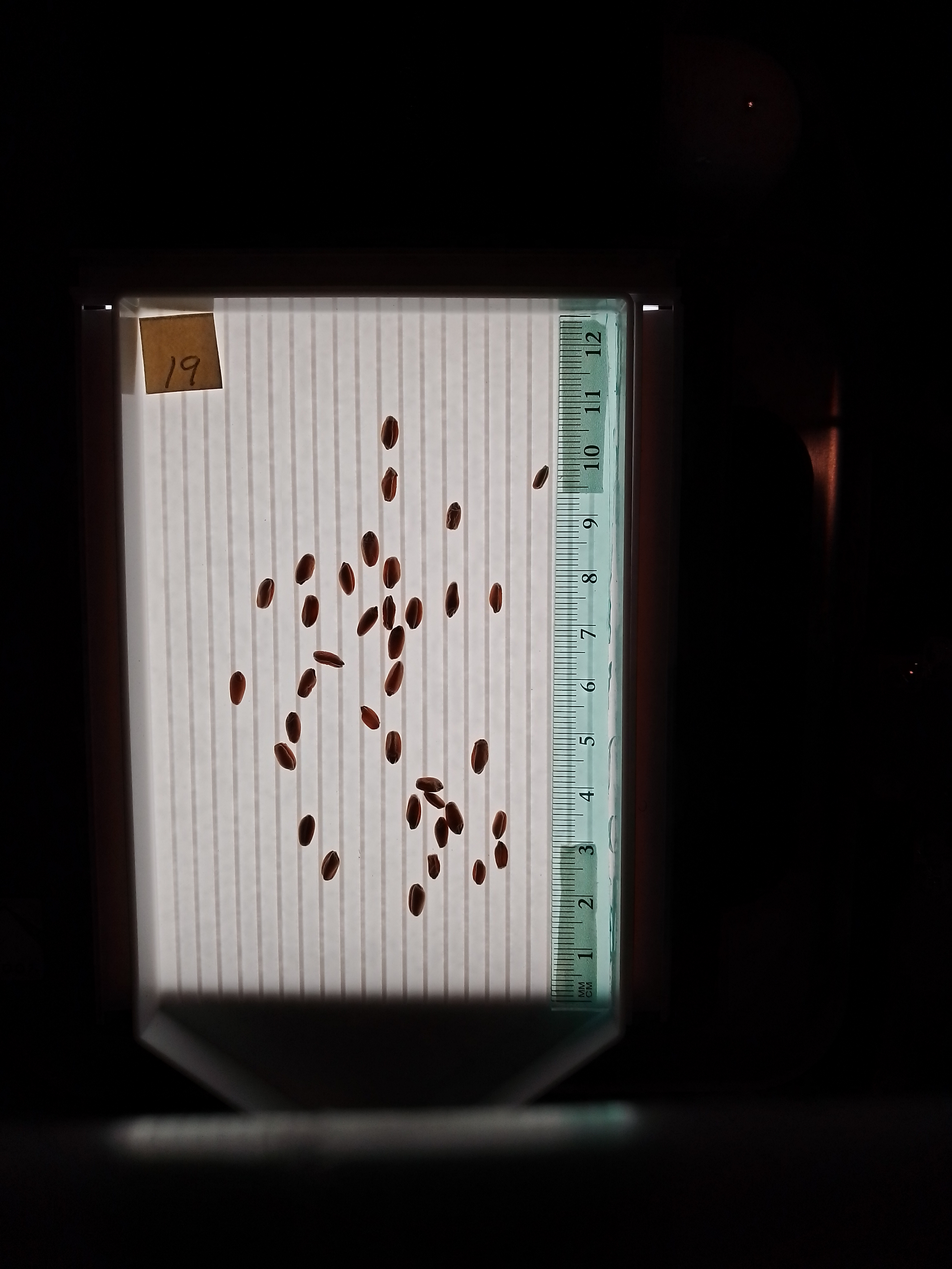seed mask: (417, 776, 443, 802), (361, 532, 380, 566), (471, 740, 489, 774), (274, 743, 296, 770), (357, 607, 378, 635), (381, 417, 399, 449), (321, 851, 340, 881), (381, 468, 398, 501), (385, 664, 403, 695), (301, 596, 319, 627), (446, 802, 464, 833), (296, 555, 315, 584), (406, 597, 423, 629), (388, 626, 404, 659), (383, 557, 400, 588), (298, 815, 315, 846), (339, 563, 355, 595), (409, 884, 425, 916), (257, 579, 274, 609), (230, 672, 245, 704), (360, 706, 380, 730), (406, 796, 421, 828), (314, 651, 342, 668), (298, 670, 315, 698), (386, 732, 401, 763), (286, 713, 301, 743), (446, 583, 459, 616), (489, 584, 503, 613), (434, 818, 448, 847), (447, 503, 461, 531), (383, 597, 395, 628), (533, 466, 549, 489), (492, 812, 506, 838), (494, 843, 508, 868), (426, 793, 445, 809), (473, 861, 486, 884), (428, 855, 440, 878)
